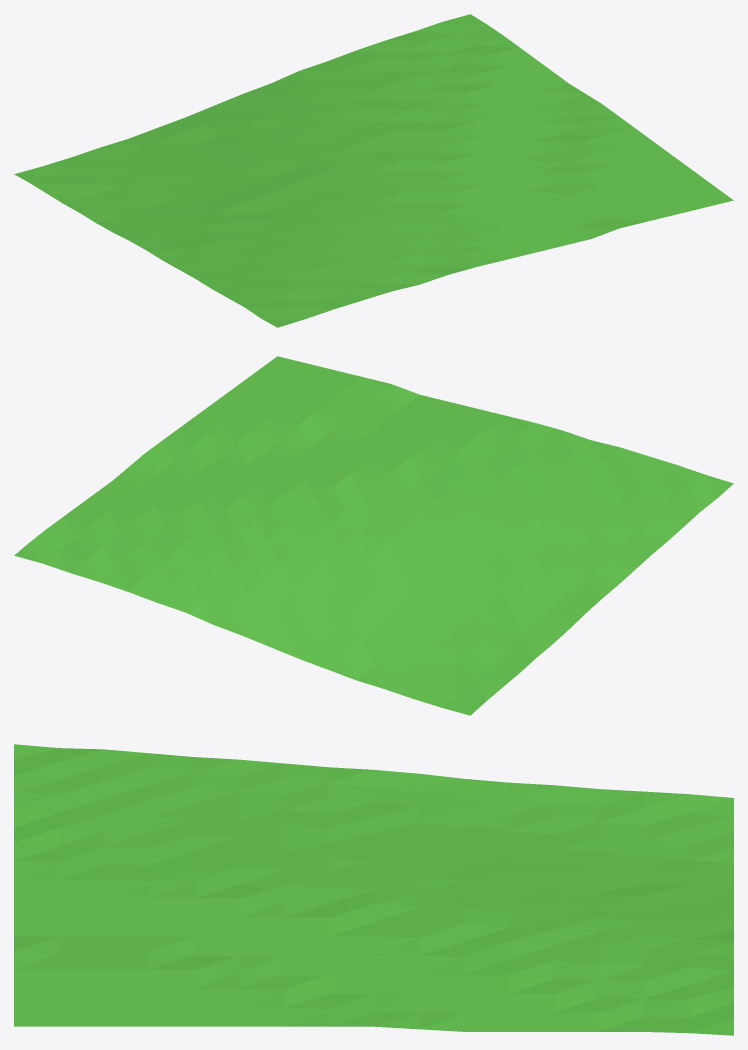
Rendered from natura_world_180.gltf.
3 renders of one model, top to bottom at view 1: azimuth 30°, elevation 25°; view 2: azimuth 150°, elevation 25°; view 3: azimuth 270°, elevation 25°, orthographic. The views are drawn at different scales.
Parts seen in each view (by area): view 1: natura_world.180; view 2: natura_world.180; view 3: natura_world.180.
Part boxes in pixels (bbox=[...]): natura_world.180: bbox=[14, 14, 733, 327]; natura_world.180: bbox=[14, 356, 733, 715]; natura_world.180: bbox=[14, 744, 733, 1035].
Bounding box in the file's own units: 0.125 × 0.0145 × 0.125.
